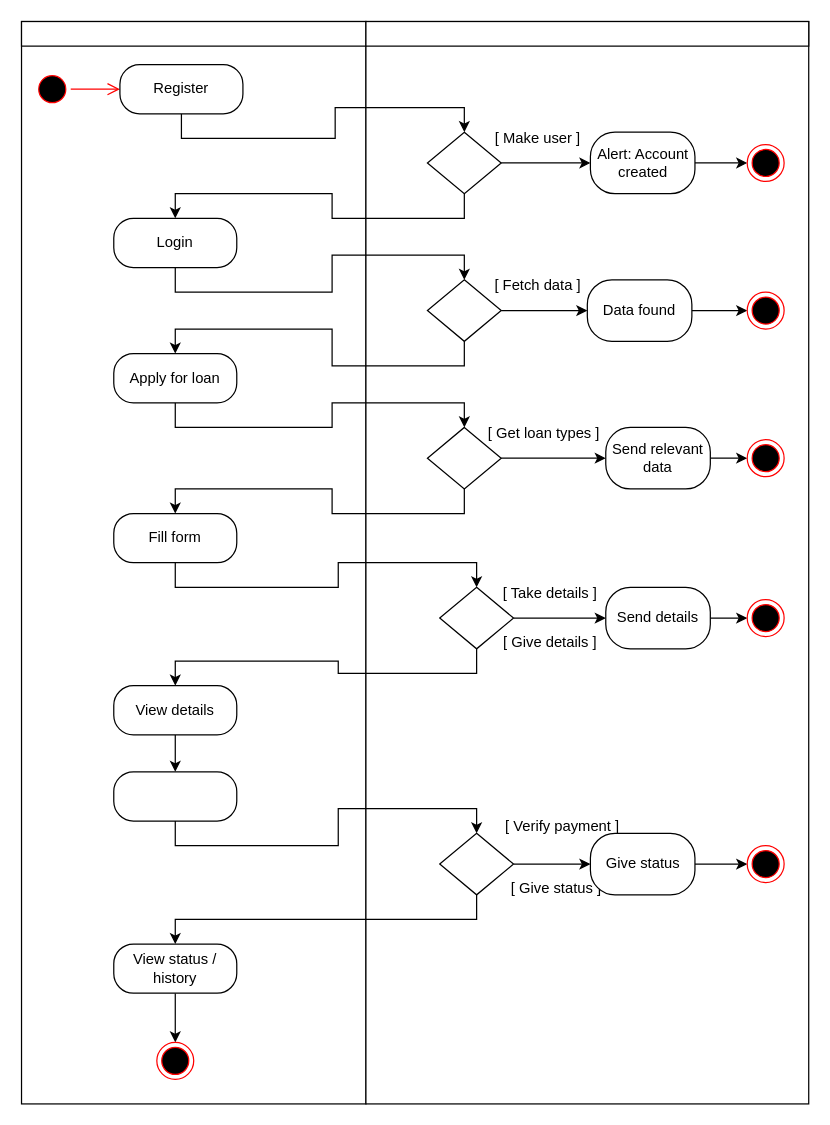
The diagram is 830 pixels wide and 1125 high, and some of its shapes have lost their labels. Here are the shapes that lost their labels. From the top down, the centre of each, then its label:
At point (193, 33): "Customer".
At point (587, 33): "Loan management software".
At point (175, 796): "make payments".
